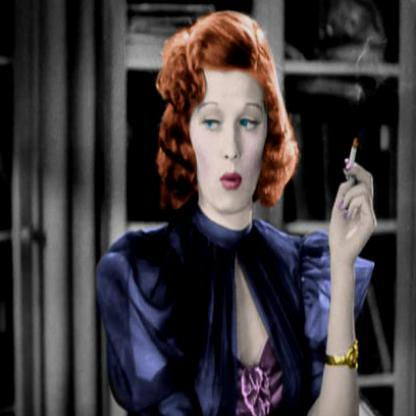cigarette: (349, 132, 361, 168)
person: (99, 25, 311, 415)
